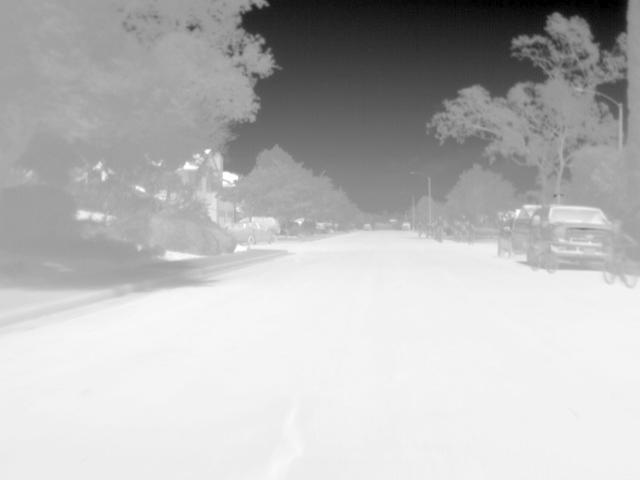car: (552, 204, 612, 272), (511, 204, 542, 252), (227, 221, 278, 246), (236, 215, 282, 236), (496, 217, 516, 258), (401, 220, 413, 232), (363, 221, 373, 232)
person: (603, 219, 638, 278), (534, 221, 560, 255), (433, 213, 446, 234)
